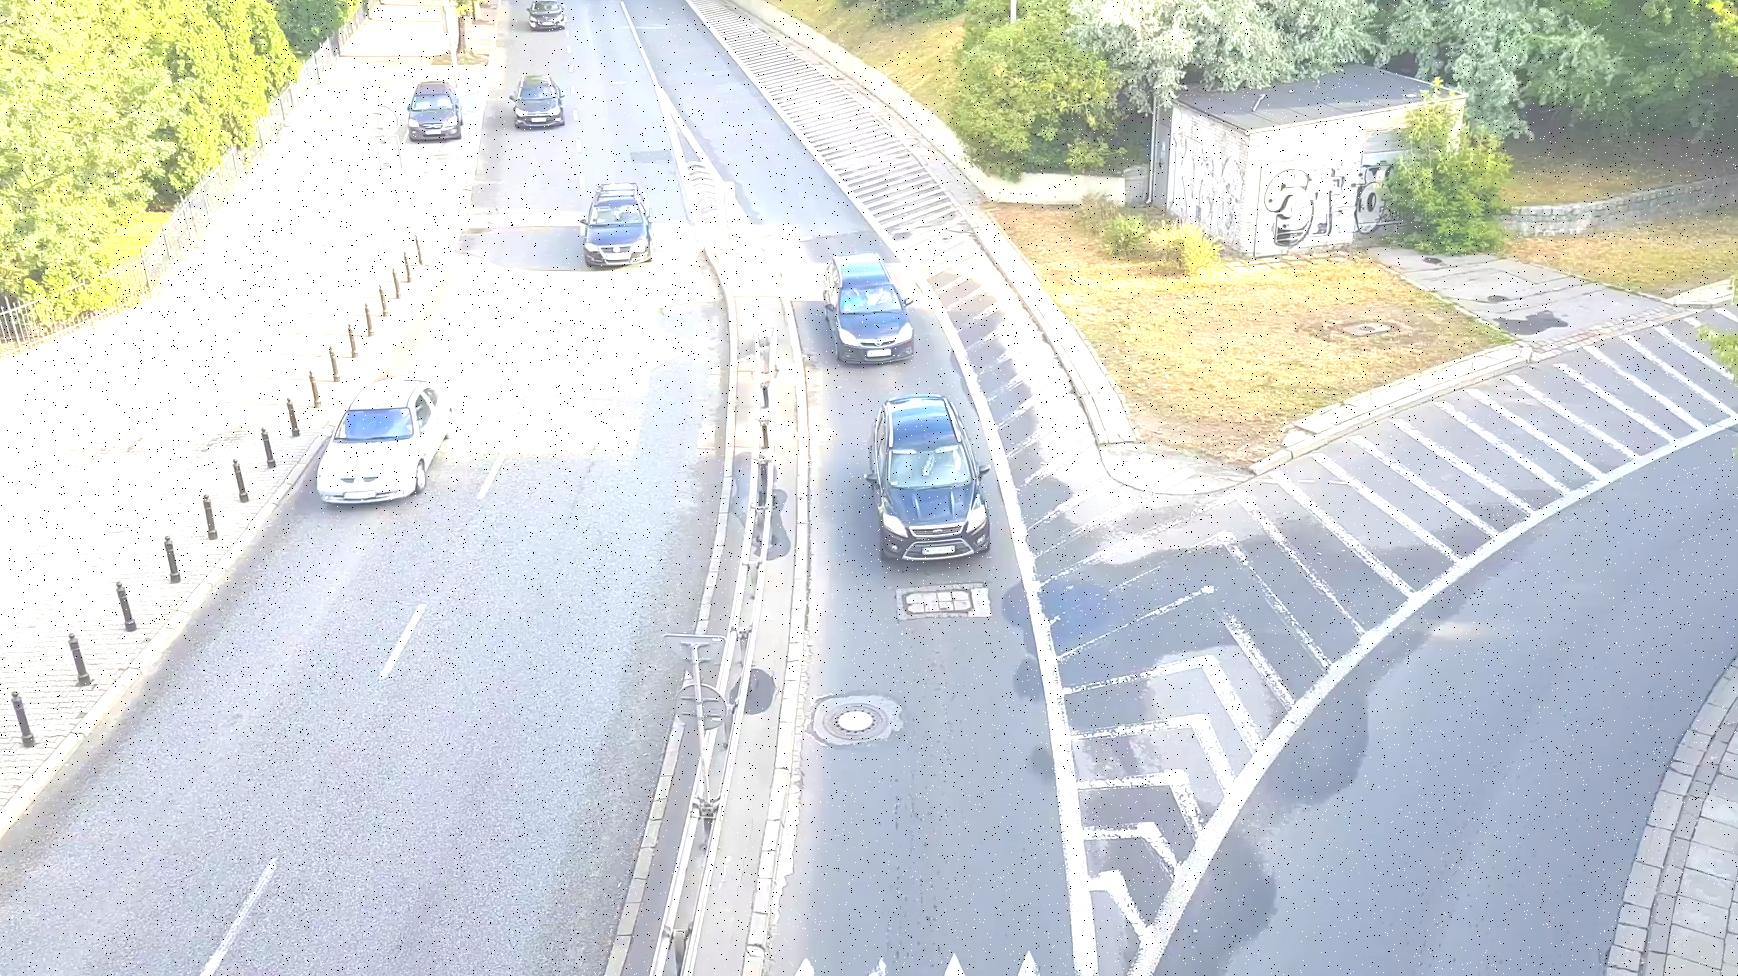car: (862, 391, 993, 569), (308, 376, 464, 517), (824, 247, 914, 365), (575, 171, 660, 267), (402, 73, 462, 147), (512, 64, 562, 135), (524, 0, 573, 31)
